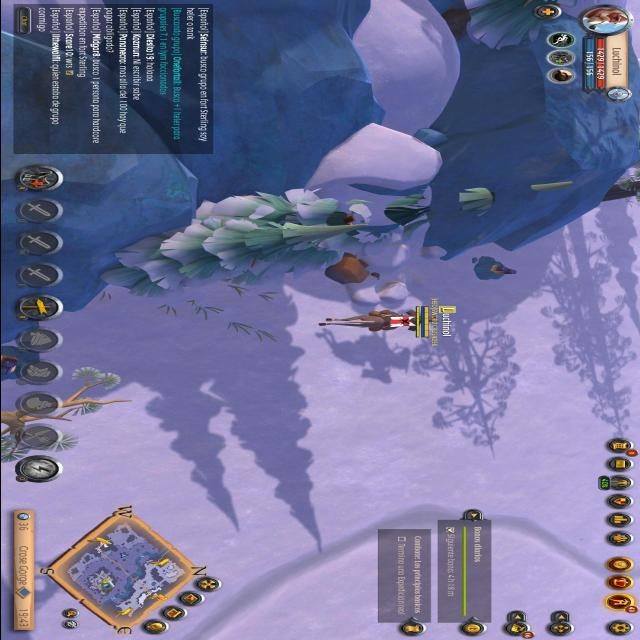piedra_cobre: (464, 252, 527, 286)
